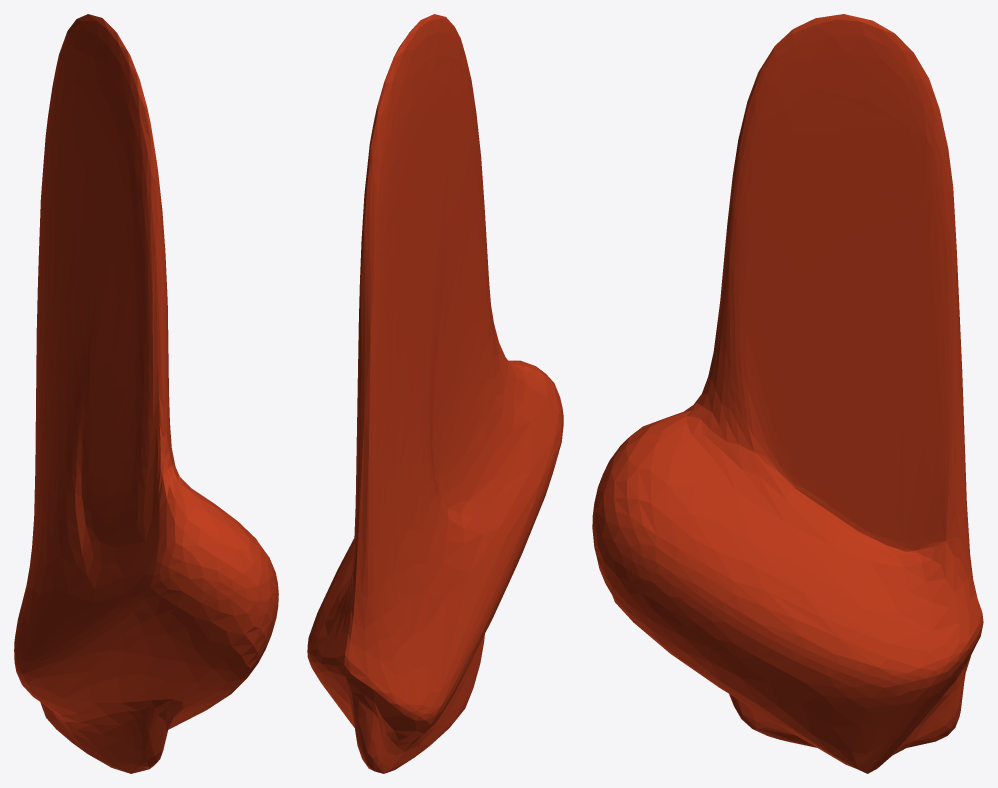
3 renders of one model, left to right at view 1: azimuth 30°, elevation 25°; view 2: azimuth 150°, elevation 25°; view 3: azimuth 270°, elevation 25°, orthographic.
Parts seen in each view (by area): view 1: 368_Cube.1502; view 2: 368_Cube.1502; view 3: 368_Cube.1502.
Part boxes in pixels (x1,y1,x2,y2): 368_Cube.1502: (14, 14, 278, 773); 368_Cube.1502: (307, 14, 563, 773); 368_Cube.1502: (592, 14, 983, 773).
Bounding box in the file's own units: 2.39 × 11.59 × 5.53.
